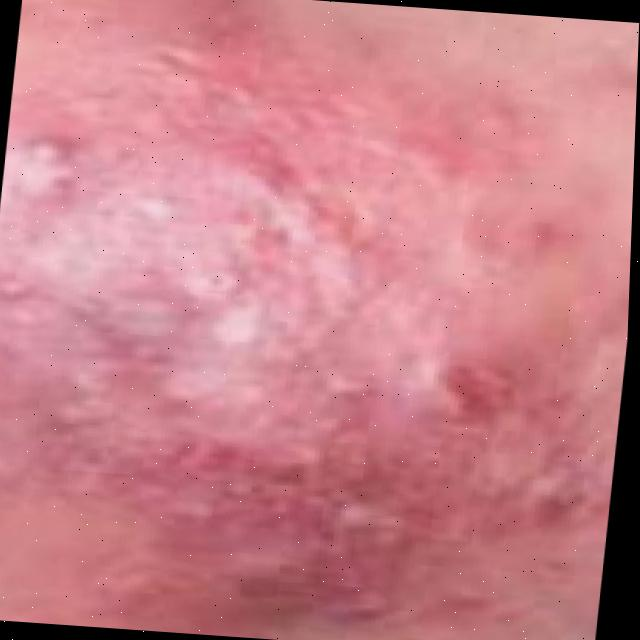Rosacea: (25, 35, 629, 640)
